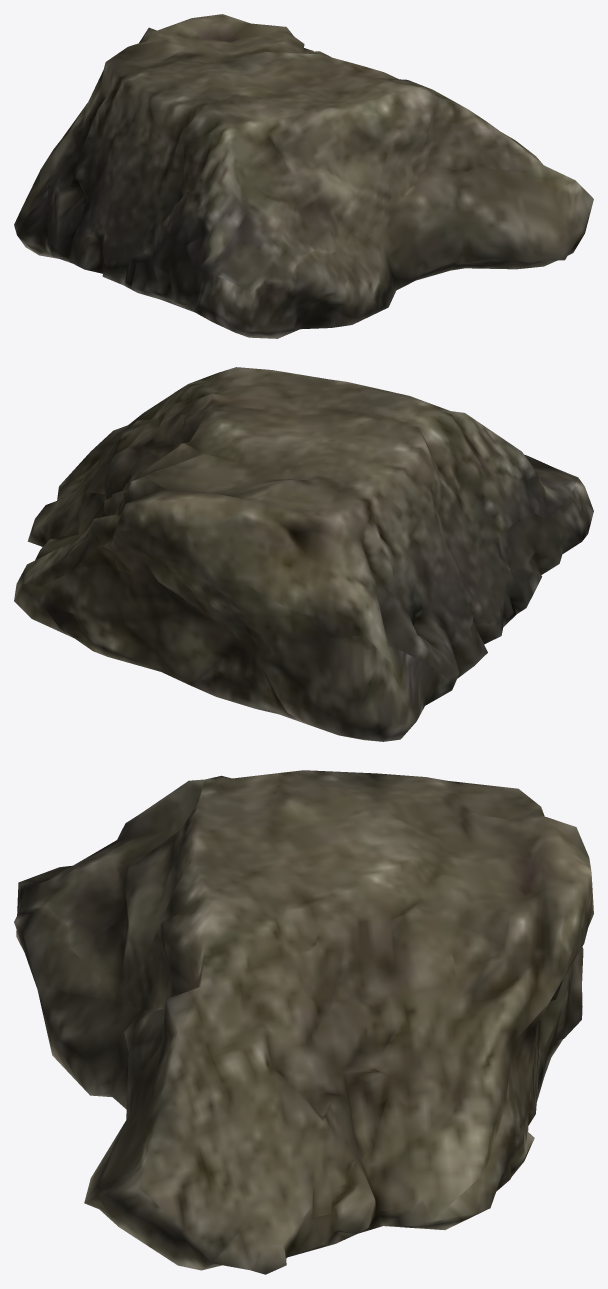
File: rock_moss_set_02.glb
3 views of the same model, one above another, from view 1: azimuth 30°, elevation 25°; view 2: azimuth 150°, elevation 25°; view 3: azimuth 270°, elevation 25° (orthographic). The views are drawn at different scales.
Visible parts, largest first — view 1: rock_moss_set_02_rock08; view 2: rock_moss_set_02_rock08; view 3: rock_moss_set_02_rock08.
Part boxes in pixels (x1=…): rock_moss_set_02_rock08: x1=14, y1=14, x2=593, y2=338; rock_moss_set_02_rock08: x1=14, y1=367, x2=593, y2=741; rock_moss_set_02_rock08: x1=14, y1=770, x2=593, y2=1274.
Bounding box in the file's own units: 1.2 × 0.5252 × 0.9786.
Materials: 1 (1 with a texture image).
